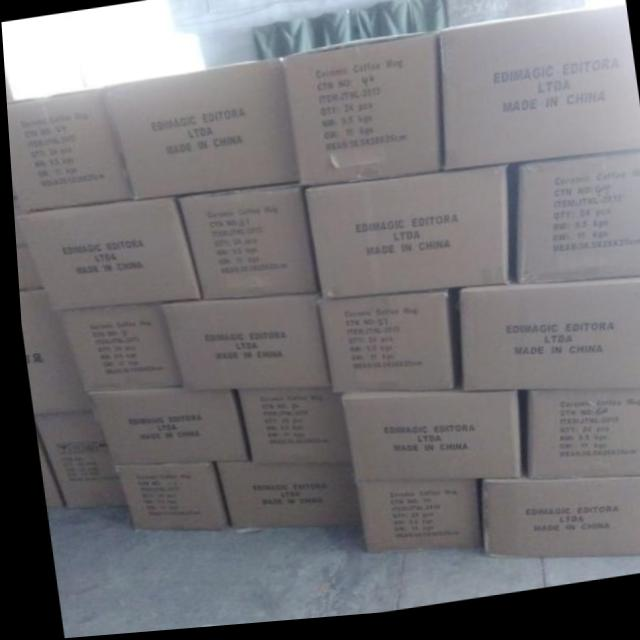box: (438, 12, 640, 178), (103, 63, 296, 200), (302, 176, 504, 304), (278, 37, 442, 189), (455, 287, 640, 399), (14, 196, 196, 307), (510, 163, 640, 290), (333, 397, 514, 486), (174, 189, 315, 303), (154, 299, 321, 391), (5, 88, 129, 207), (312, 297, 450, 397), (474, 484, 640, 565), (84, 391, 244, 464), (48, 305, 173, 394), (519, 398, 640, 488), (207, 465, 350, 533), (15, 288, 87, 416), (347, 484, 470, 556), (228, 392, 345, 465), (106, 463, 224, 533), (28, 415, 116, 505), (10, 199, 39, 291)
